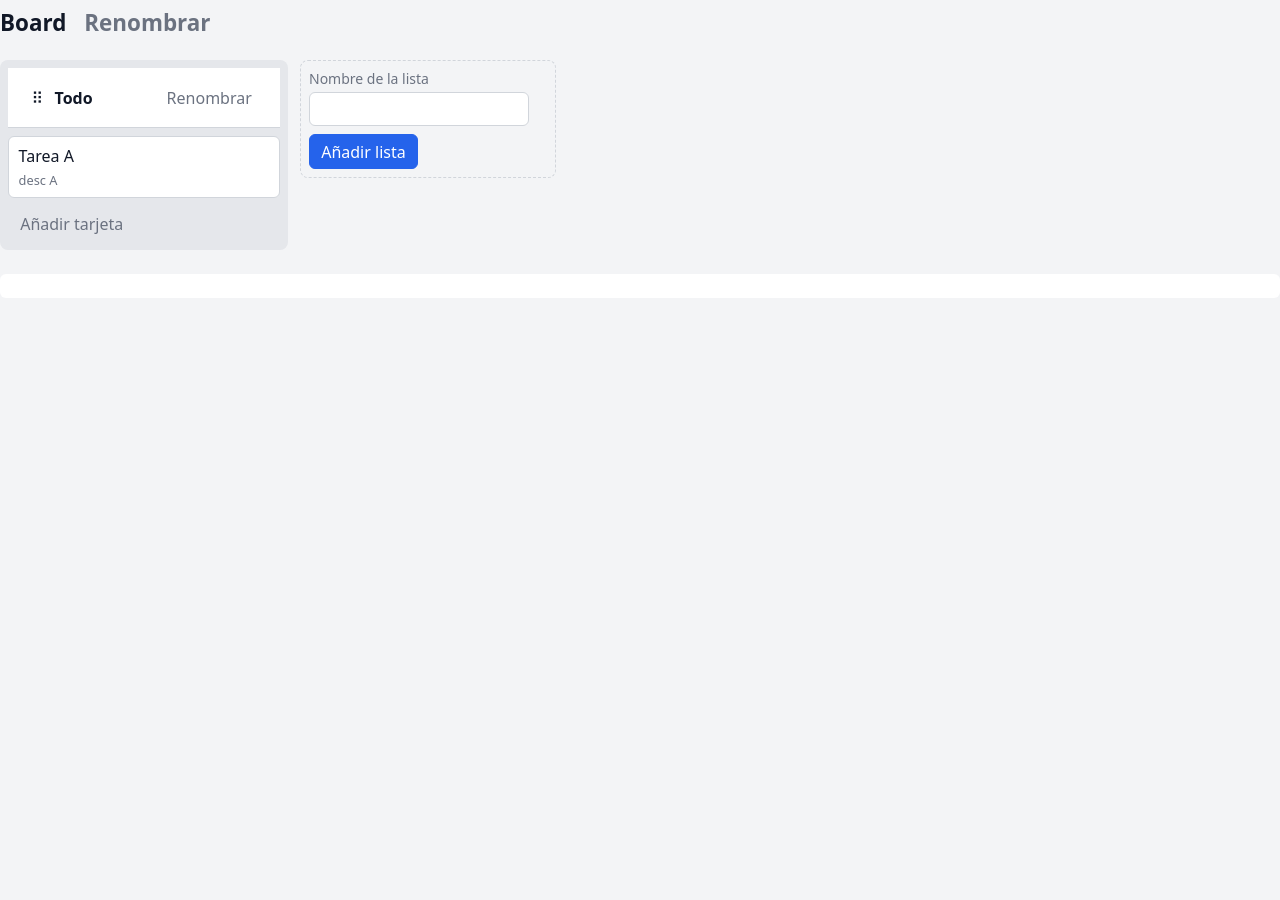
Test case: CardDialog › edita titulo y descripcion y guarda (con la version actual)
Click the text "Tarea A". click: (46, 156)
box: [19,145,74,167]
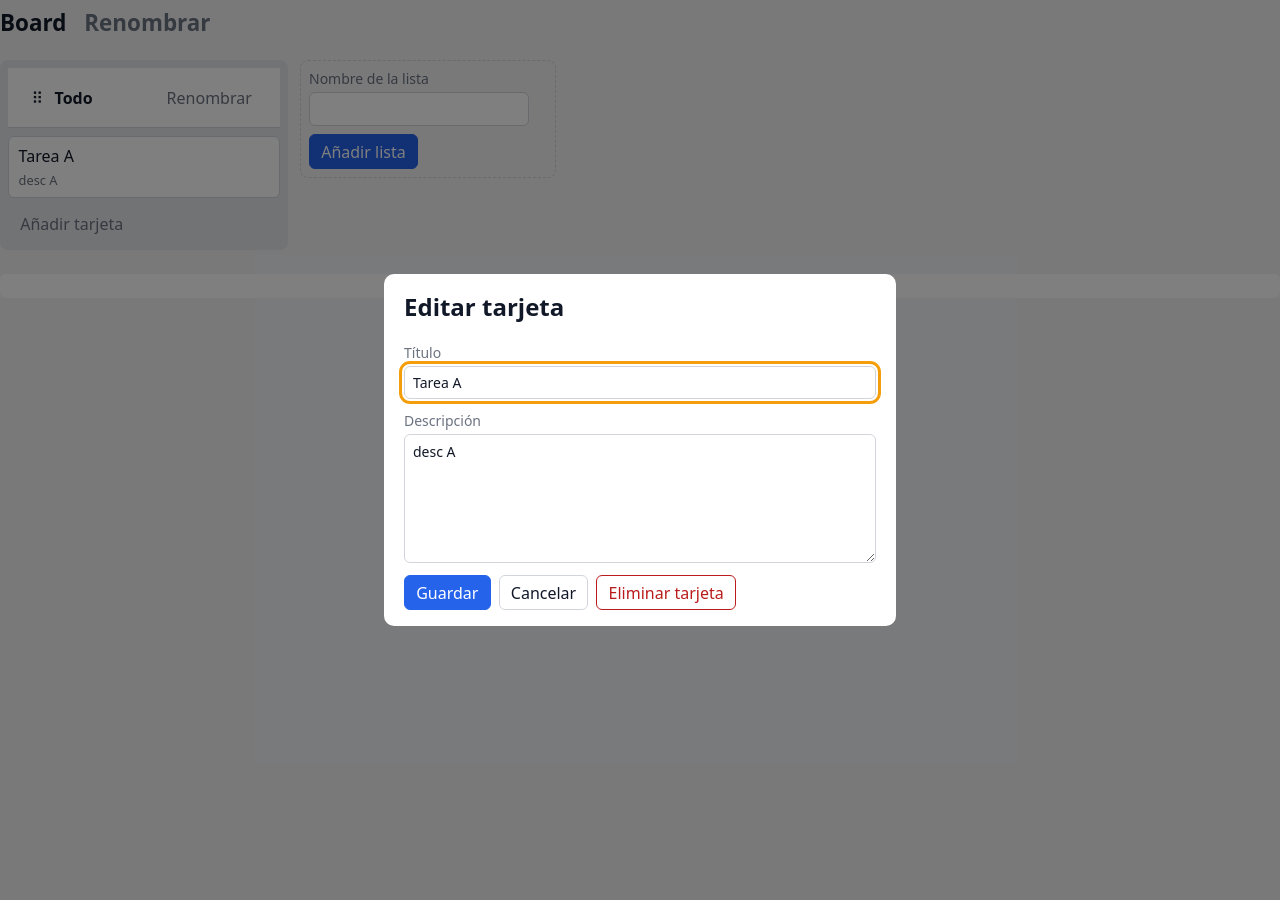
Now the field labelled "Título" holds "Tarea A"
Now the text box labelled "Descripción" holds "desc A", box [404,434,876,563]
Replace the text in the field labelled "Título" with "Tarea A2". click: (640, 382)
box: [404,366,876,399]
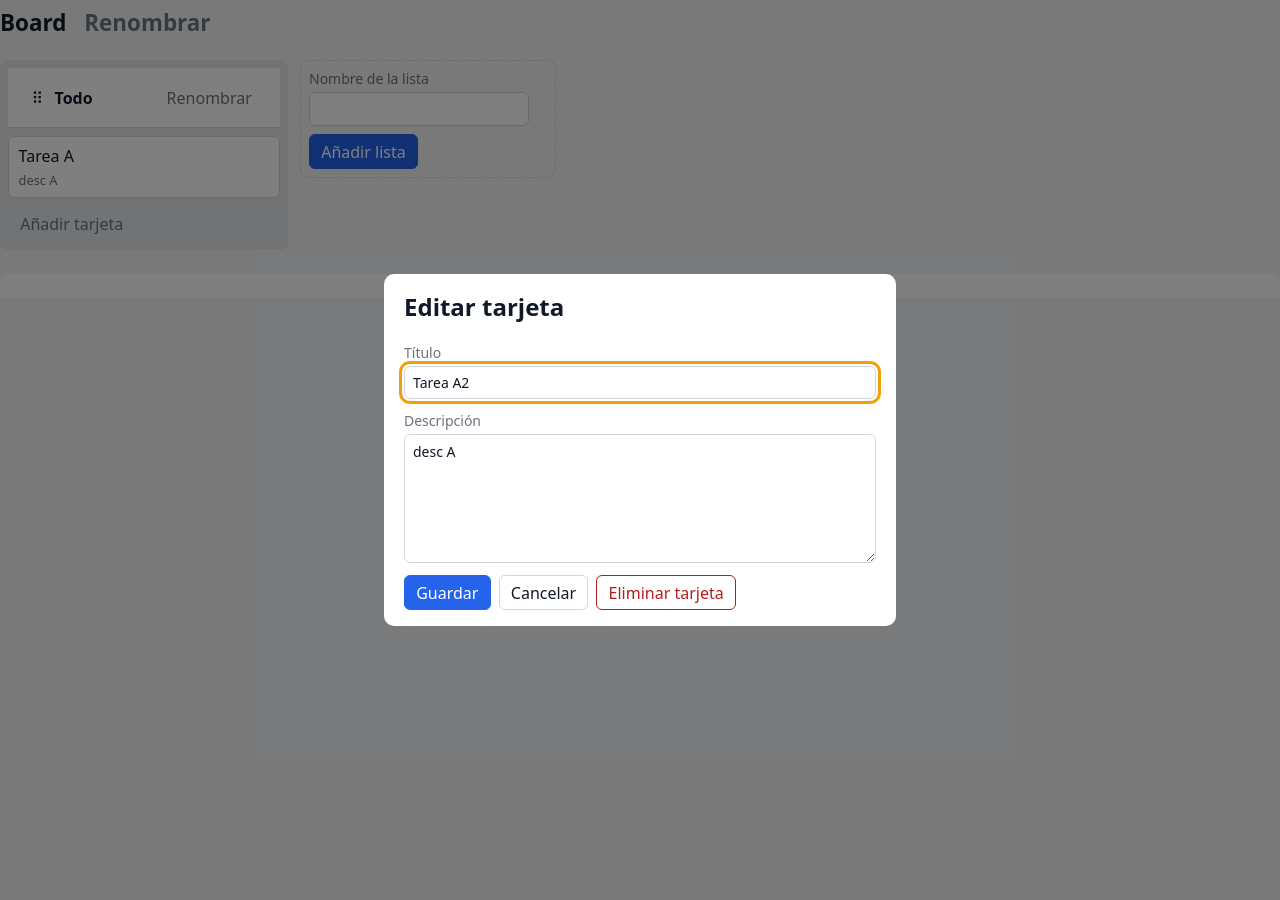
Replace the text in the text box labelled "Descripción" with "nueva". click: (640, 499)
box: [404,434,876,563]
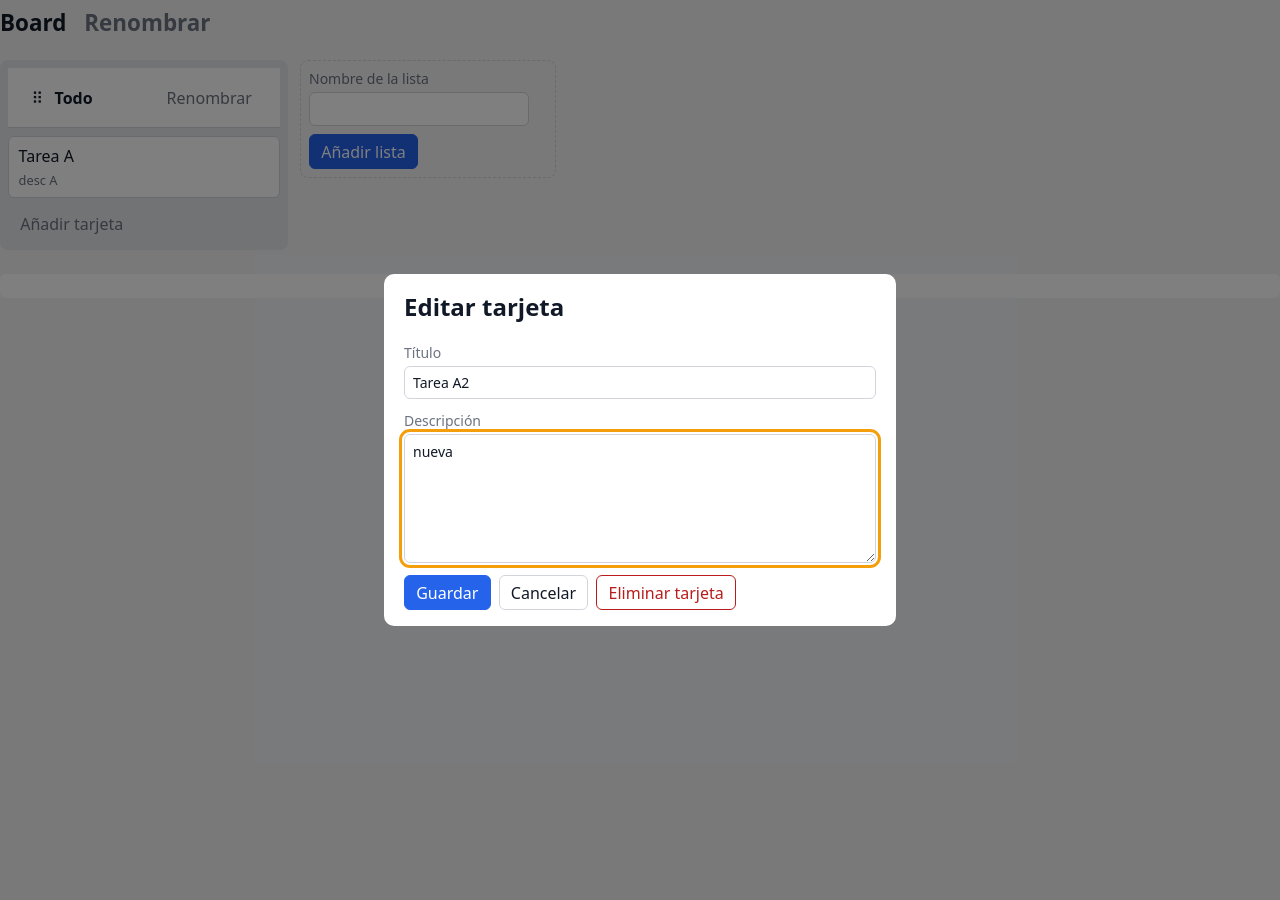
Click the button "Guardar". click: (447, 593)
box: [404,575,491,610]
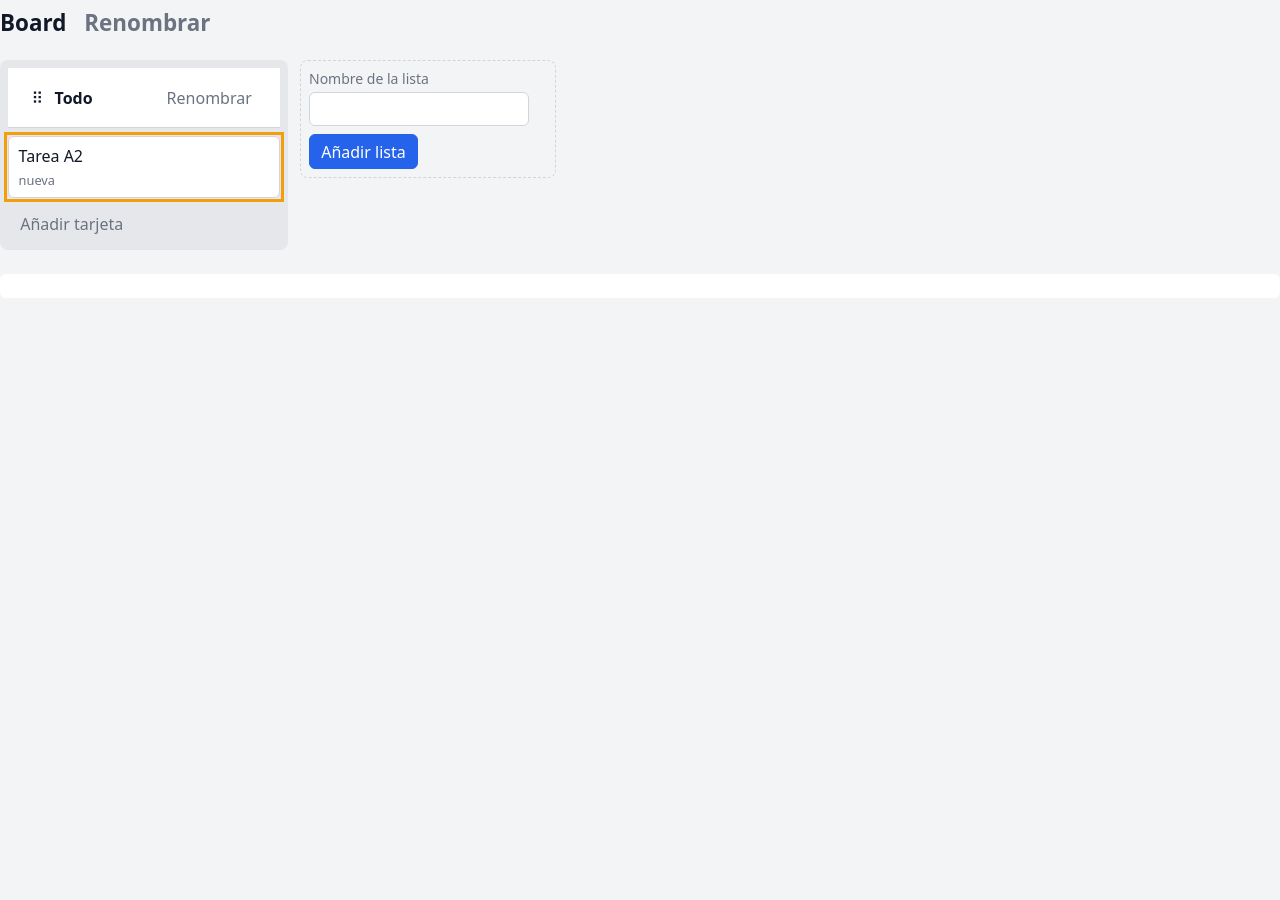
Now the dialog is gone
Now the text "Tarea A2" is shown, box [19,145,83,167]
